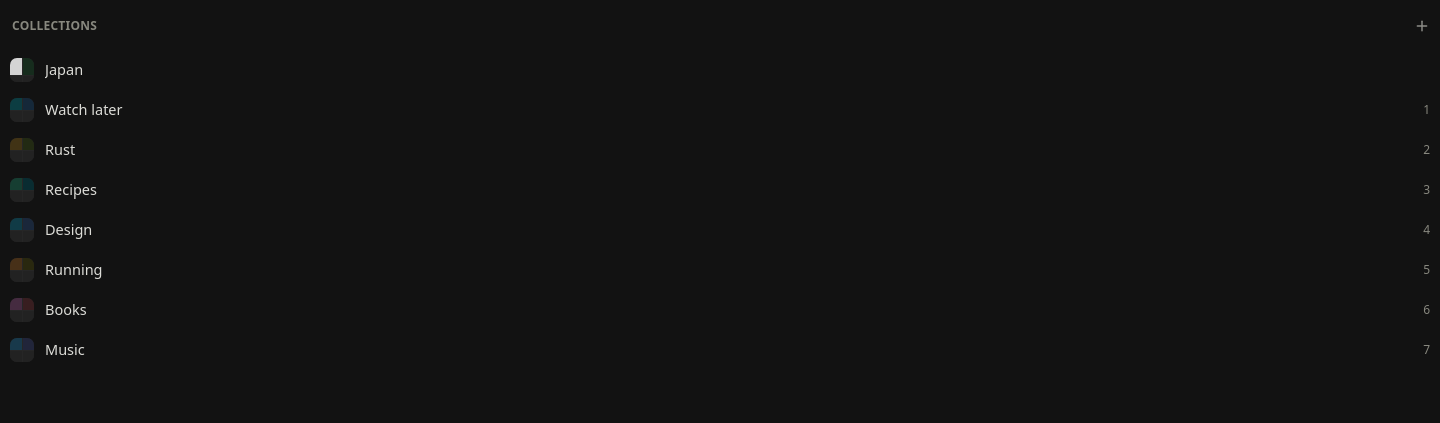
SidebarCollections › cancels the new name with Esc
This screenshot has width=1440, height=423.
Click the button named "New collection". click: click(1422, 26)
box: [1408, 12, 1436, 40]
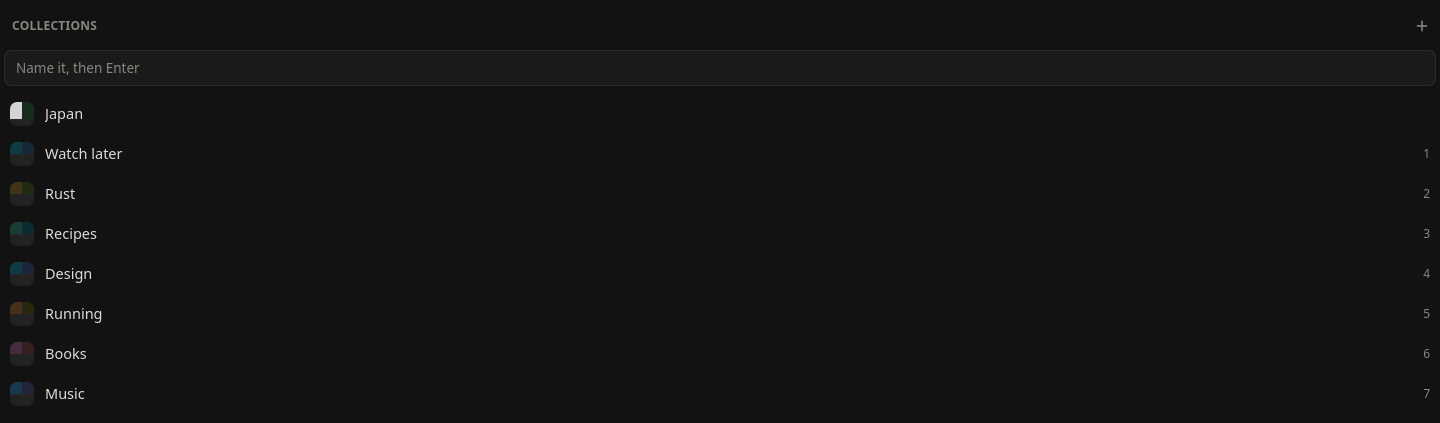
Type "Trip" into the field named "New collection name". click: (720, 68)
box: [4, 50, 1436, 86]
Then press Escape
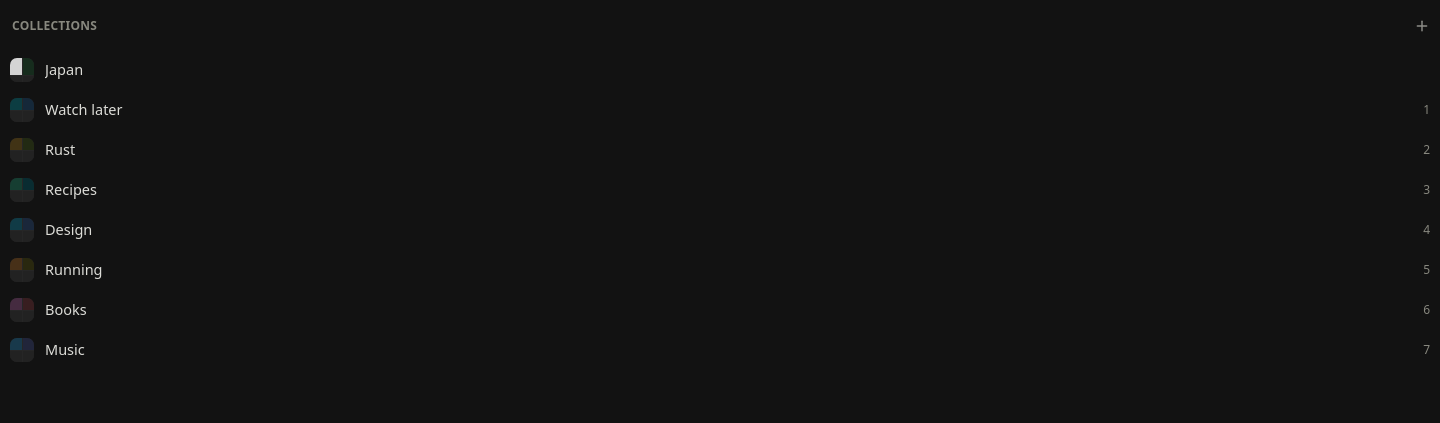
Check: the field labelled "New collection name" is gone
